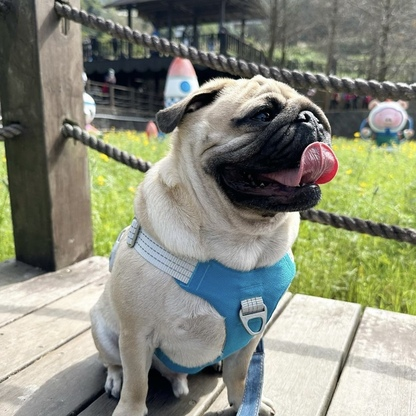Pug: (81, 69, 349, 416)
